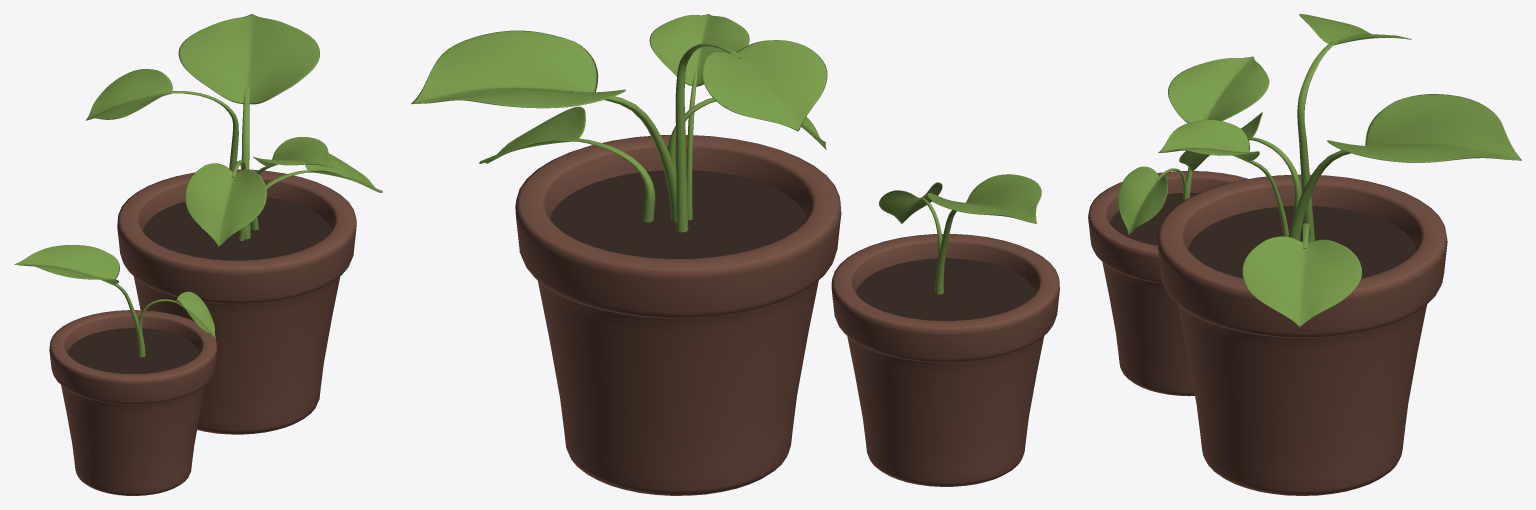
The model's file is plants.fbx.
3 views of the same model, side by side, from view 1: azimuth 30°, elevation 25°; view 2: azimuth 150°, elevation 25°; view 3: azimuth 270°, elevation 25° (orthographic). The views are drawn at different scales.
Parts seen in each view (by area): view 1: polySurface29; view 2: polySurface29; view 3: polySurface29.
Part boxes in pixels (x1,y1,x2,y2): polySurface29: [14, 14, 382, 495]; polySurface29: [411, 14, 1059, 495]; polySurface29: [1088, 14, 1521, 495].
Bounding box in the file's own units: 0.4611 × 0.3709 × 0.3713.
